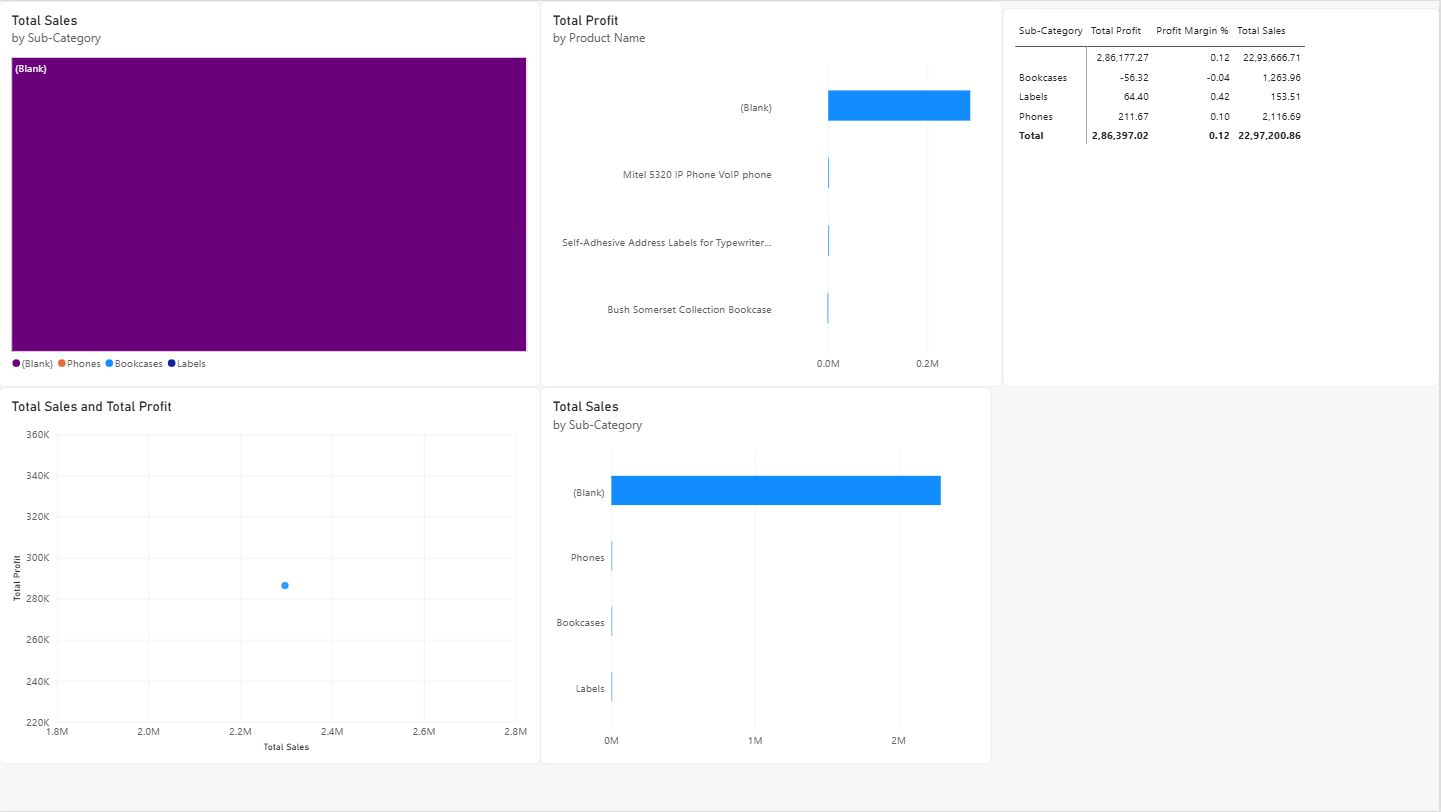

This screenshot's page, from the dashboard's own definition file:
{"tool":"powerbi","page":{"name":"Product Profitability","canvas":[1920,1080],"ordinal":1},"visuals":[{"type":"treemap","fields":{"Group":["Dim Product.Sub-Category"],"Values":["Dim Customer.Total Sales"]},"box":[0,0,722.1,514.5],"z":0},{"type":"scatterChart","fields":{"X":["Dim Customer.Total Sales"],"Y":["Dim Customer.Total Profit"]},"box":[0,514.5,722.1,502.3],"z":1000},{"type":"barChart","fields":{"Category":["Dim Product.Product Name"],"Y":["Dim Customer.Total Profit"]},"box":[722.1,0,615.7,514.5],"z":2000},{"type":"barChart","fields":{"Category":["Dim Product.Sub-Category"],"Y":["Dim Customer.Total Sales"]},"box":[722.1,514.5,601.7,502.3],"z":3000},{"type":"pivotTable","fields":{"Rows":["Dim Product.Sub-Category"],"Values":["Dim Customer.Total Profit","Dim Customer.Profit Margin %","Dim Customer.Total Sales"]},"box":[1337.8,10.5,582.6,504.1],"z":4000}]}

Visuals, with their boxes in screenshot pixels (x1, y1, x2, y2), scaled from the page's 1920x1080 canvas onto the 1441x812 screenshot:
treemap - Dim Product.Sub-Category x Dim Customer.Total Sales: bbox=(0, 0, 542, 387)
scatterChart - Dim Customer.Total Sales x Dim Customer.Total Profit: bbox=(0, 387, 542, 764)
barChart - Dim Product.Product Name x Dim Customer.Total Profit: bbox=(542, 0, 1004, 387)
barChart - Dim Product.Sub-Category x Dim Customer.Total Sales: bbox=(542, 387, 994, 764)
pivotTable - Dim Product.Sub-Category x Dim Customer.Total Profit: bbox=(1004, 8, 1440, 387)
